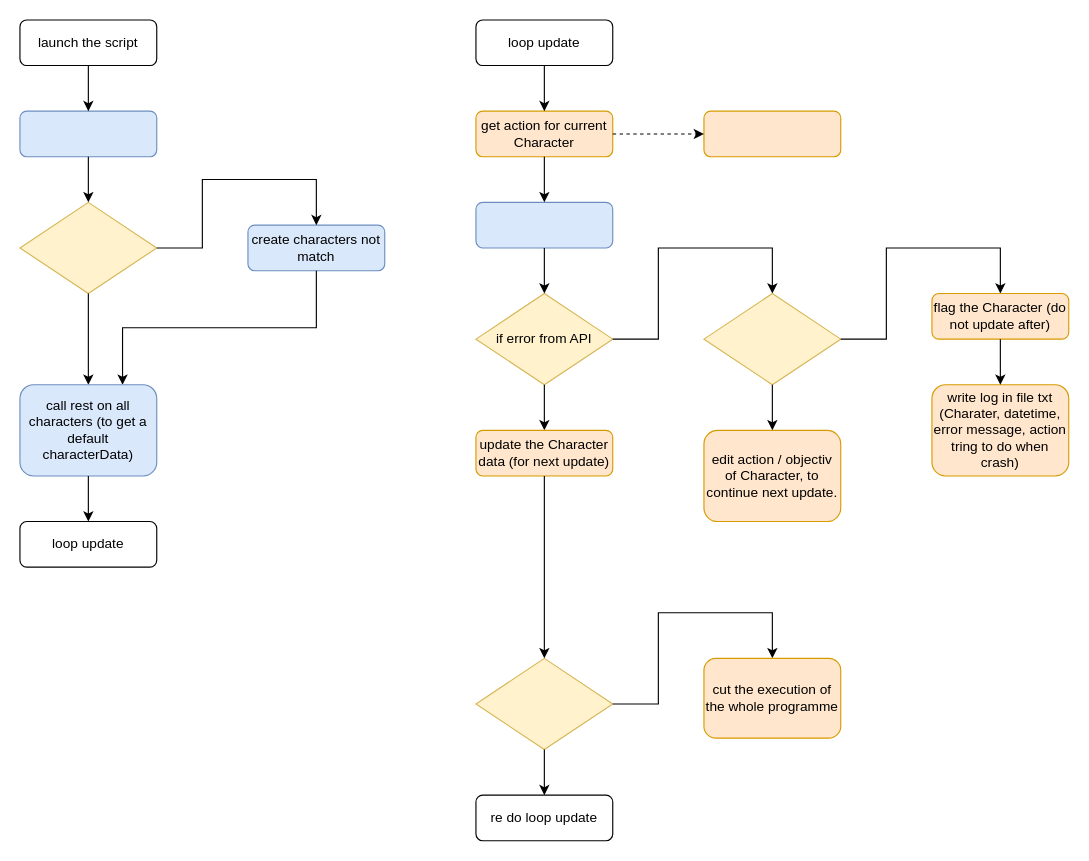
The diagram is 1089 pixels wide and 861 high, and some of its shapes have lost their labels. The shapes that lost their labels are listed below. From the top down, each one's centre as x and y in pixels, then its label:
At point (88, 133): "ask API for gets characters of acount".
At point (772, 133): "eval from CharacterObjectifs, can be edited".
At point (544, 224): "ask api to do the action".
At point (88, 247): "if not match the characters enum HardCoded".
At point (772, 338): "if error can be handdle without cutting action".
At point (544, 703): "if all characters is flag error from API".
